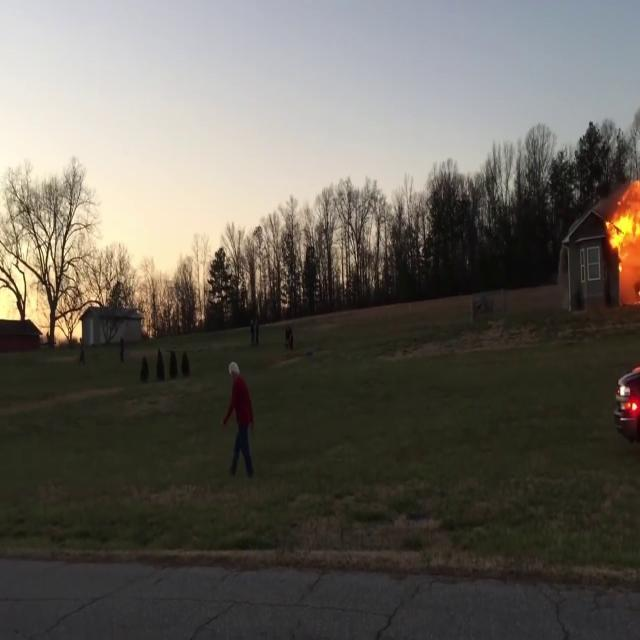Fire: (604, 183, 640, 277)
